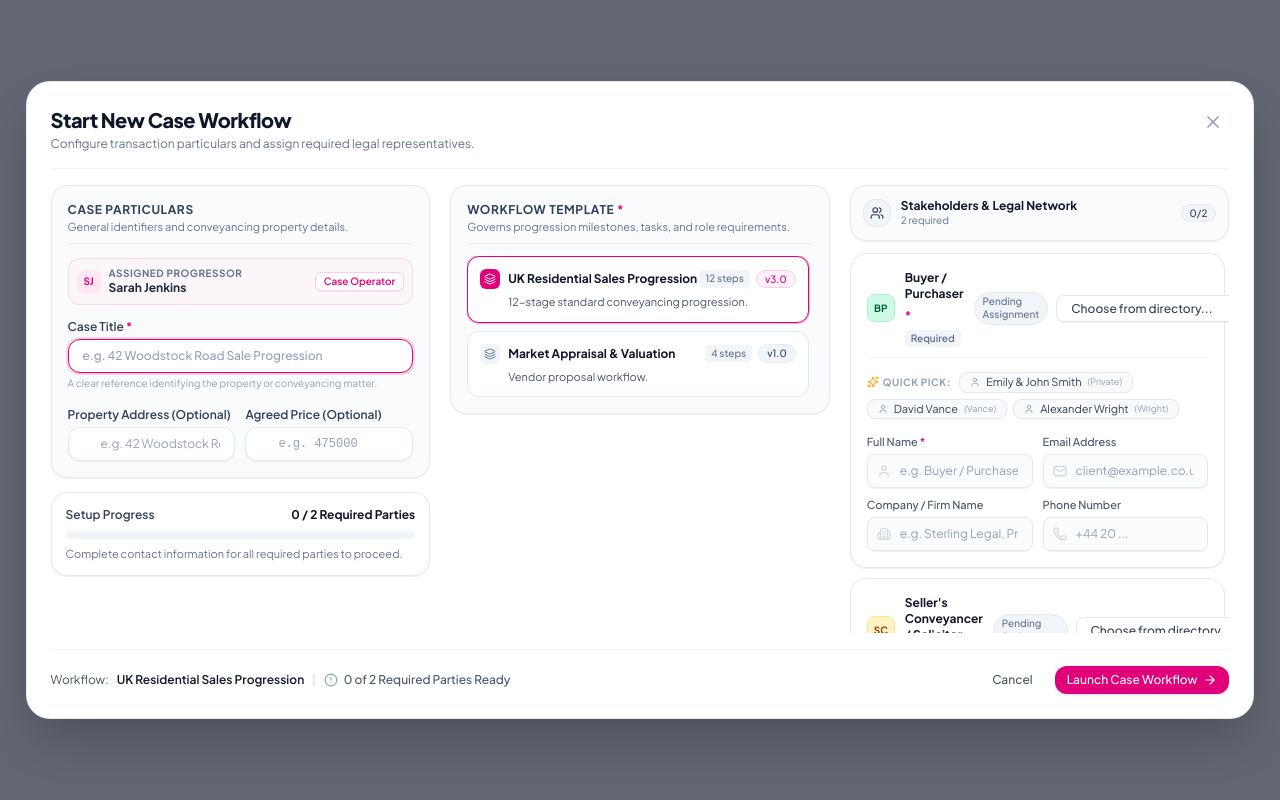
CreateCaseModal › populates fields when a Quick Pick chip is clicked on a role
Check: the text "12-stage standard conveyancing progression." is shown, box x1=508 y1=295 x2=748 y2=308
Note: Click the chip
Click the button "Emily & John Smith (Private)": (1046, 382) x1=959 y1=372 x2=1133 y2=393
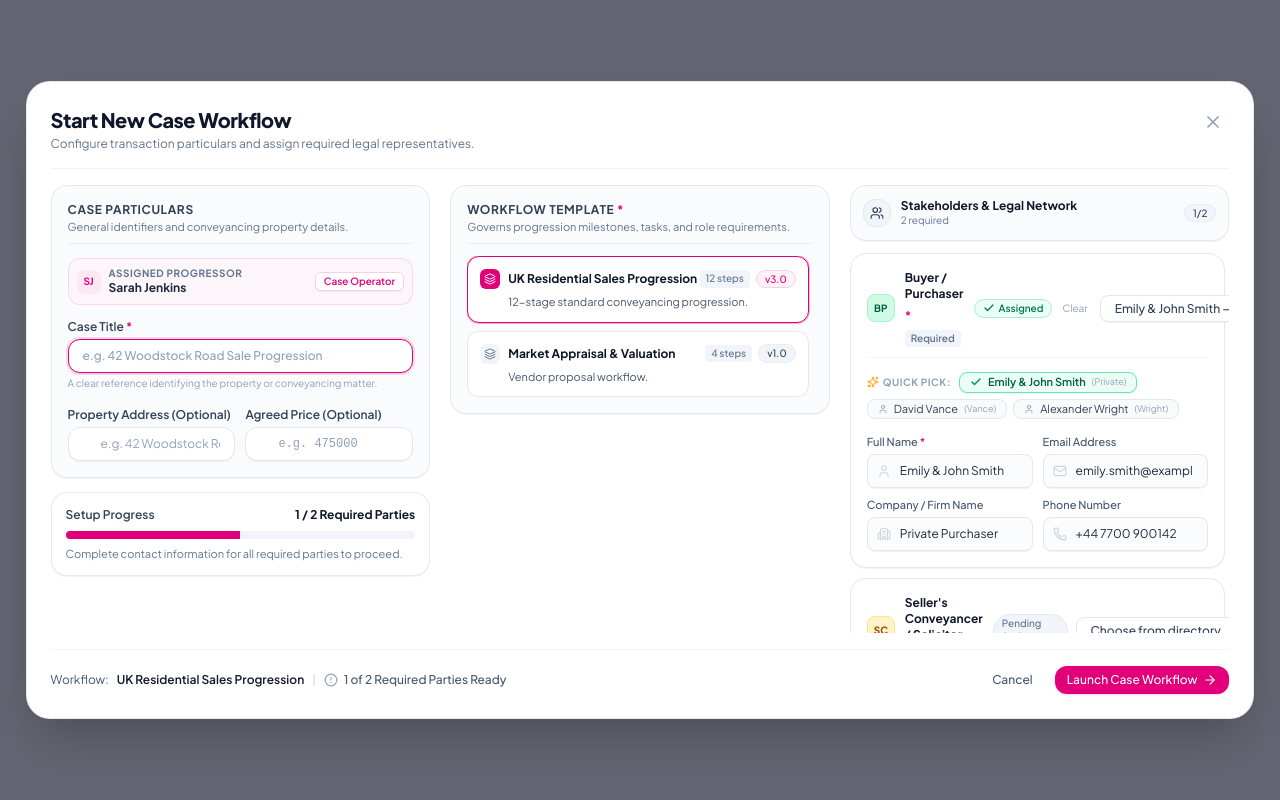
Check: the field with placeholder "e.g. Buyer / Purchaser contact name" below "Full Name" holds "Emily & John Smith", box x1=867 y1=454 x2=1033 y2=488
